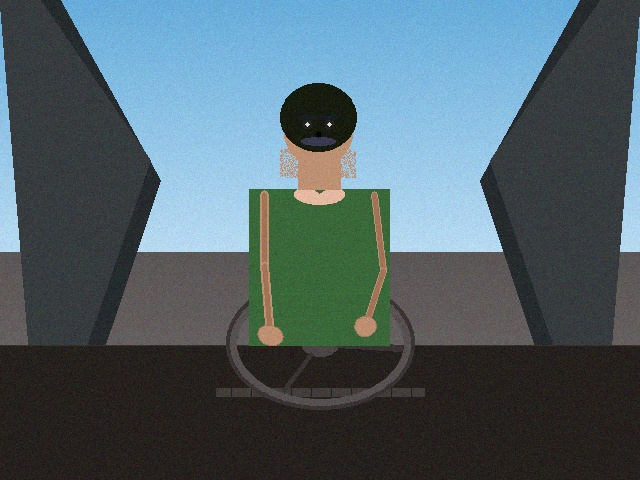normal_driving: (102, 191, 320, 343)
